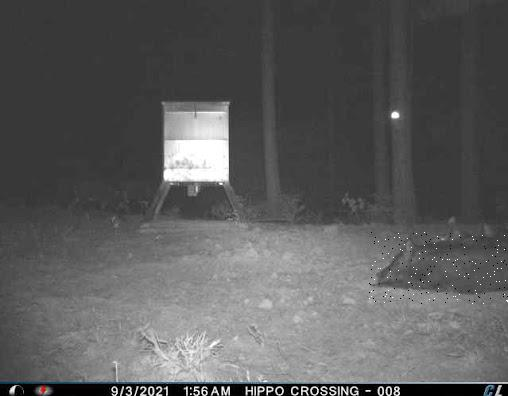Hog: (369, 232, 508, 304)
